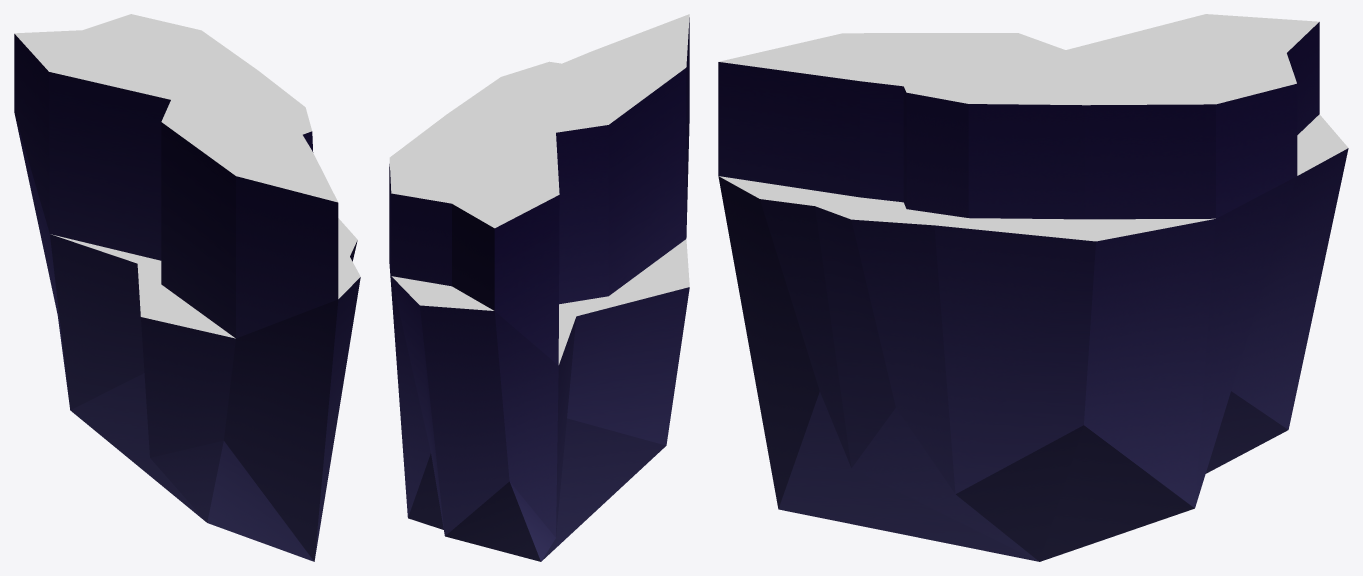
Rendered from MOD_FLOATING_Island3.fbx.
3 views of the same model, side by side, from view 1: azimuth 30°, elevation 25°; view 2: azimuth 150°, elevation 25°; view 3: azimuth 270°, elevation 25° (orthographic). The views are drawn at different scales.
Parts seen in each view (by area): view 1: MOD_FLOATING_Isalnd3; view 2: MOD_FLOATING_Isalnd3; view 3: MOD_FLOATING_Isalnd3.
Part boxes in pixels (box(x1,y1,x2,y2)): MOD_FLOATING_Isalnd3: box(14, 14, 360, 561); MOD_FLOATING_Isalnd3: box(389, 14, 689, 561); MOD_FLOATING_Isalnd3: box(718, 14, 1348, 561).
Size of the model in its own units: 2.13 by 4.03 by 4.63.
2 materials, 1 textured.
